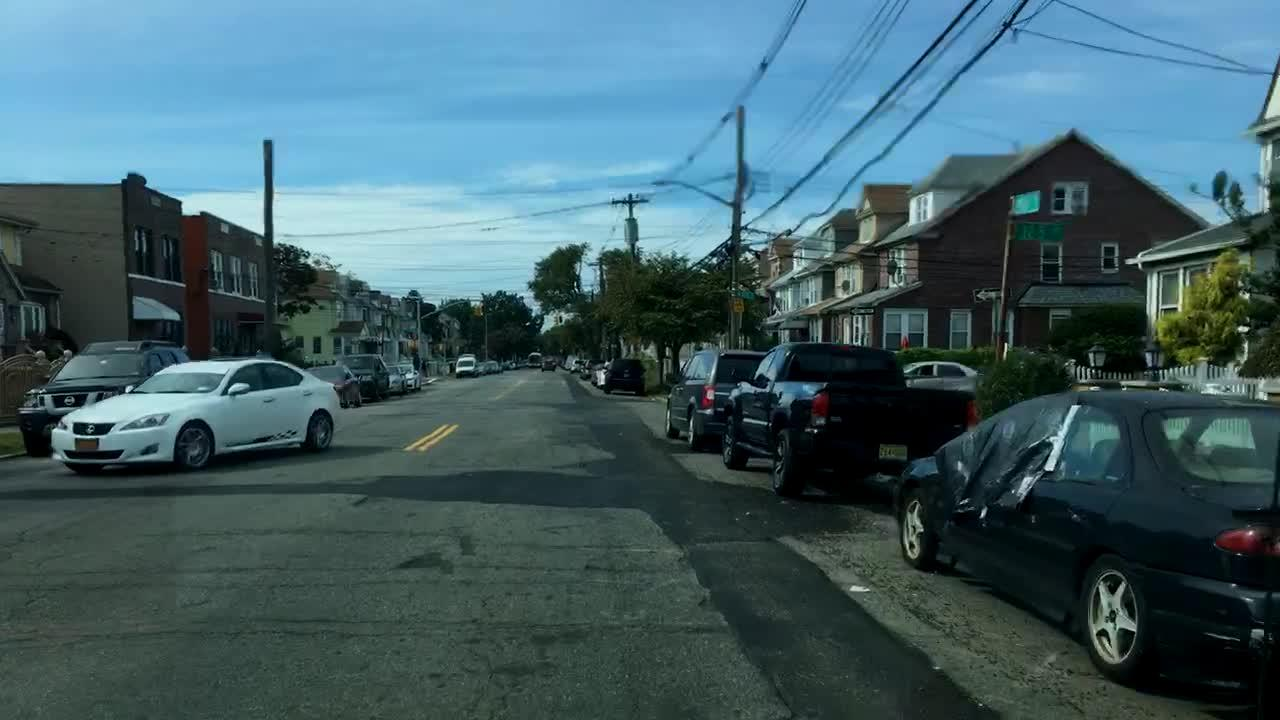Nissan: (61, 392, 77, 410)
lexus: (78, 419, 102, 438)
